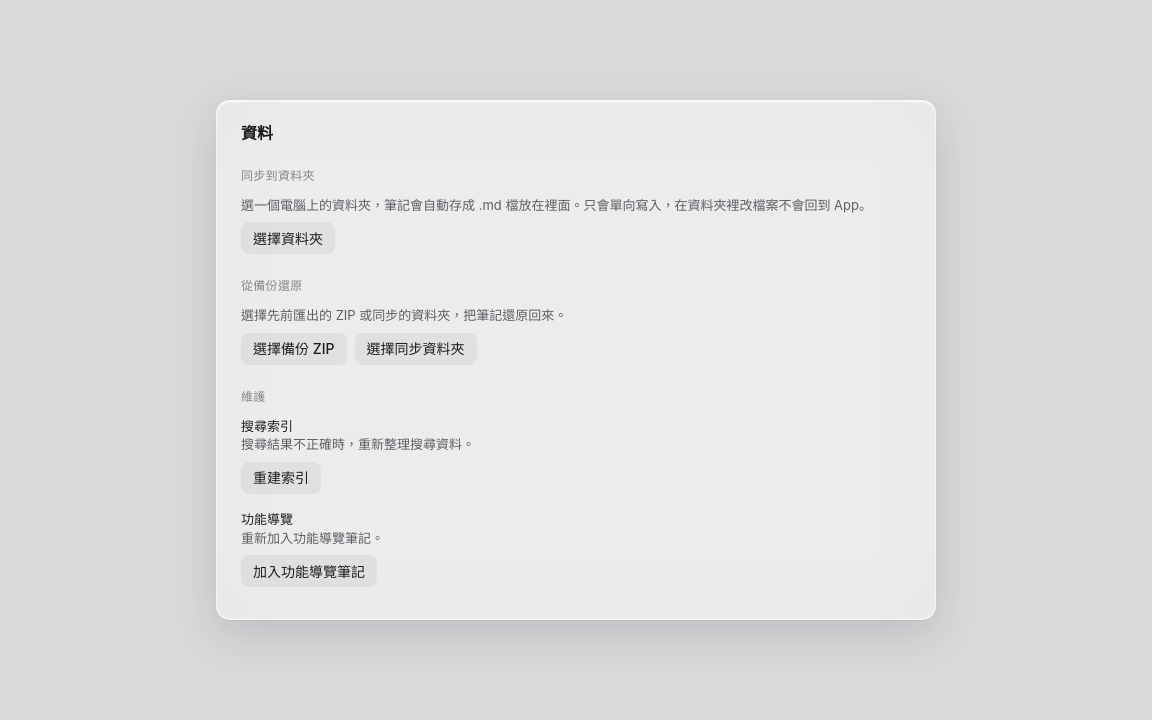
Test: SettingsDialog › data › shows rebuild errors inline in plain Chinese, without the technical message
(page scrolled)
Step 1. Click the button "重建索引" → x=281, y=478, box [241,462,321,494]
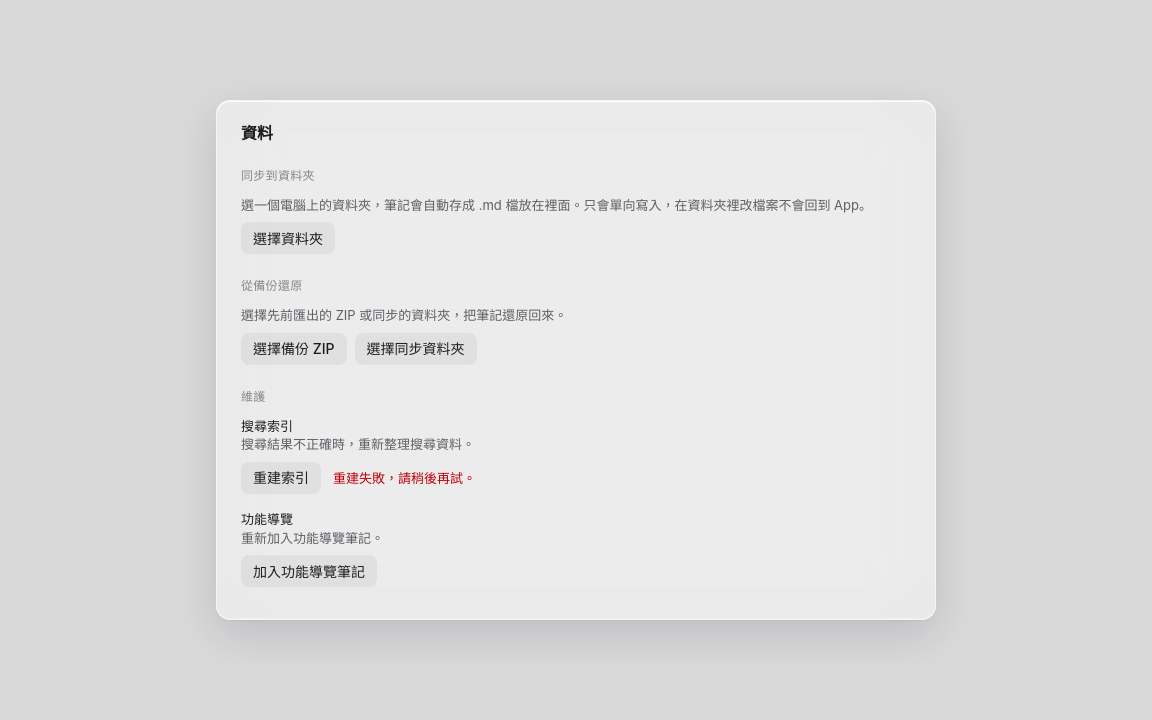
Check: the text "重建失敗，請稍後再試。" is shown, box [333,469,476,487]
